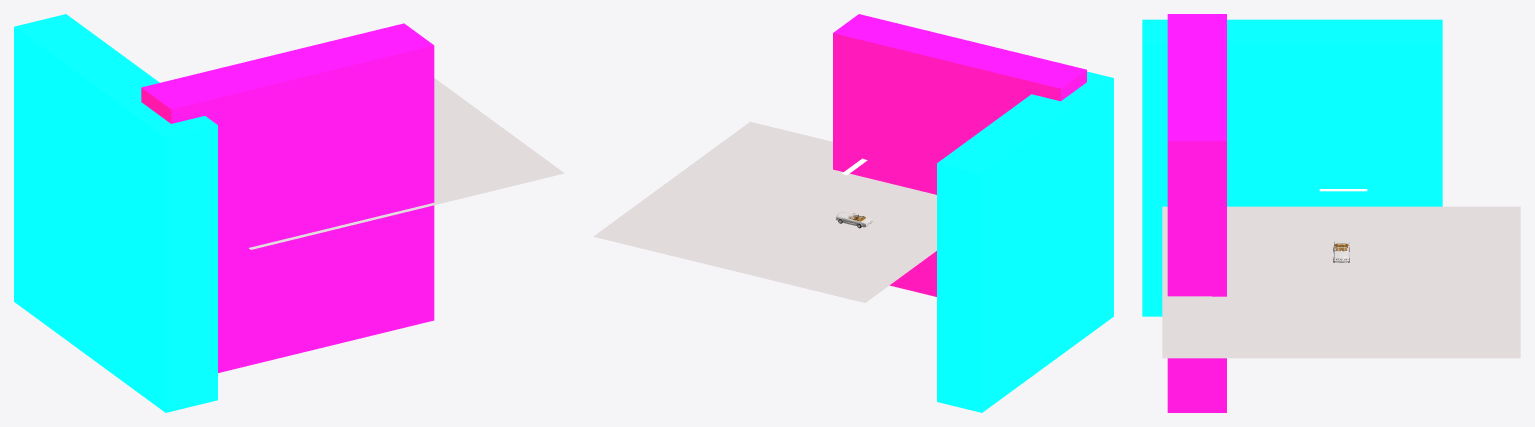
Rendered from ford_mustang_gt_convertible_1968.glb.
The picture shows the model from 3 angles, left to right: view 1: azimuth 30°, elevation 25°; view 2: azimuth 150°, elevation 25°; view 3: azimuth 270°, elevation 25°; orthographic projection. The views are drawn at different scales.
Parts seen in each view (by area): view 1: Cube.002_56, Cube.001_55, Plane.006_10; view 2: Cube.001_55, Plane.006_10, Cube.002_56; view 3: Plane.006_10, Cube.001_55, Cube.002_56.
Boxes of the visible parts, bbox=[...] form: Cube.002_56: bbox=[141, 23, 434, 372]; Cube.001_55: bbox=[14, 14, 217, 412]; Plane.006_10: bbox=[249, 78, 564, 249]; Cube.001_55: bbox=[937, 71, 1113, 412]; Plane.006_10: bbox=[593, 121, 936, 302]; Cube.002_56: bbox=[833, 14, 1086, 296]; Plane.006_10: bbox=[1162, 206, 1520, 358]; Cube.001_55: bbox=[1142, 19, 1442, 316]; Cube.002_56: bbox=[1167, 14, 1226, 412].
Size of the model in its own units: 39.3 by 26.59 by 31.82.
